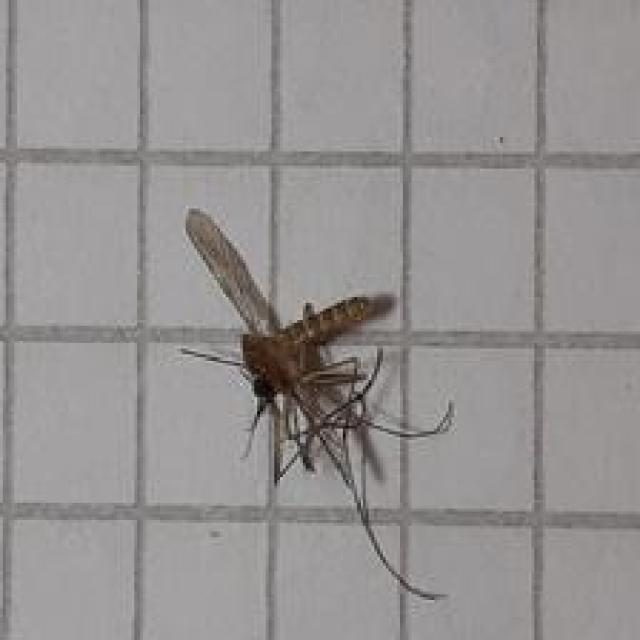Culex: (176, 206, 456, 603)
